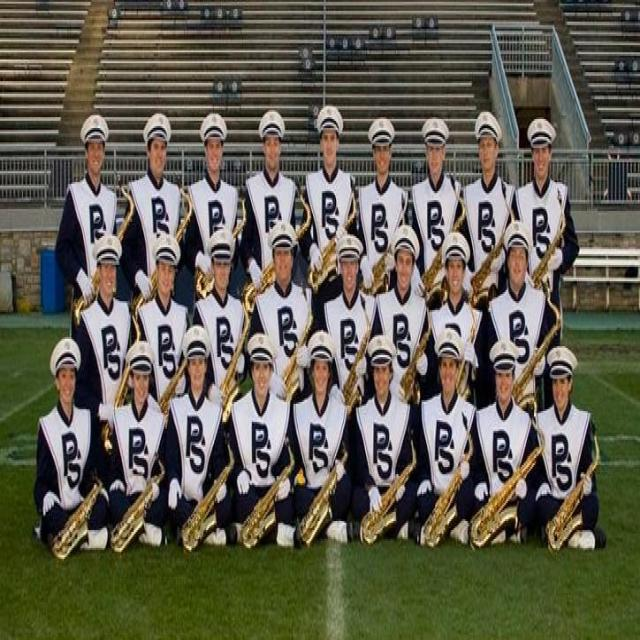saxophone: (71, 170, 137, 328), (470, 432, 547, 548), (243, 189, 314, 313), (133, 182, 195, 322), (358, 429, 421, 547), (543, 435, 605, 552), (423, 409, 475, 548), (179, 431, 238, 553), (238, 433, 296, 550), (511, 290, 563, 409), (110, 451, 167, 554), (100, 313, 141, 451), (298, 438, 350, 546), (195, 195, 249, 298), (419, 185, 469, 296), (468, 194, 516, 304), (50, 471, 108, 559), (309, 192, 360, 288), (530, 188, 568, 288), (398, 295, 431, 406), (216, 308, 252, 404), (276, 310, 314, 400), (342, 292, 371, 405), (158, 337, 193, 415), (456, 304, 479, 404), (361, 246, 394, 293)
